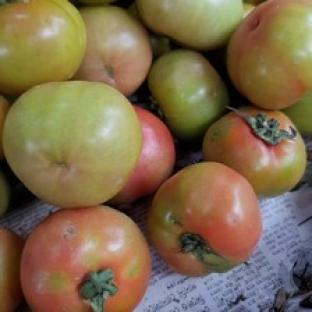Tomato: (3, 81, 142, 207), (21, 205, 151, 311), (147, 162, 261, 275), (202, 106, 306, 197), (148, 49, 229, 142), (74, 5, 153, 96), (111, 105, 175, 204), (0, 226, 23, 311), (283, 91, 311, 136), (0, 95, 9, 160), (0, 170, 11, 217)
